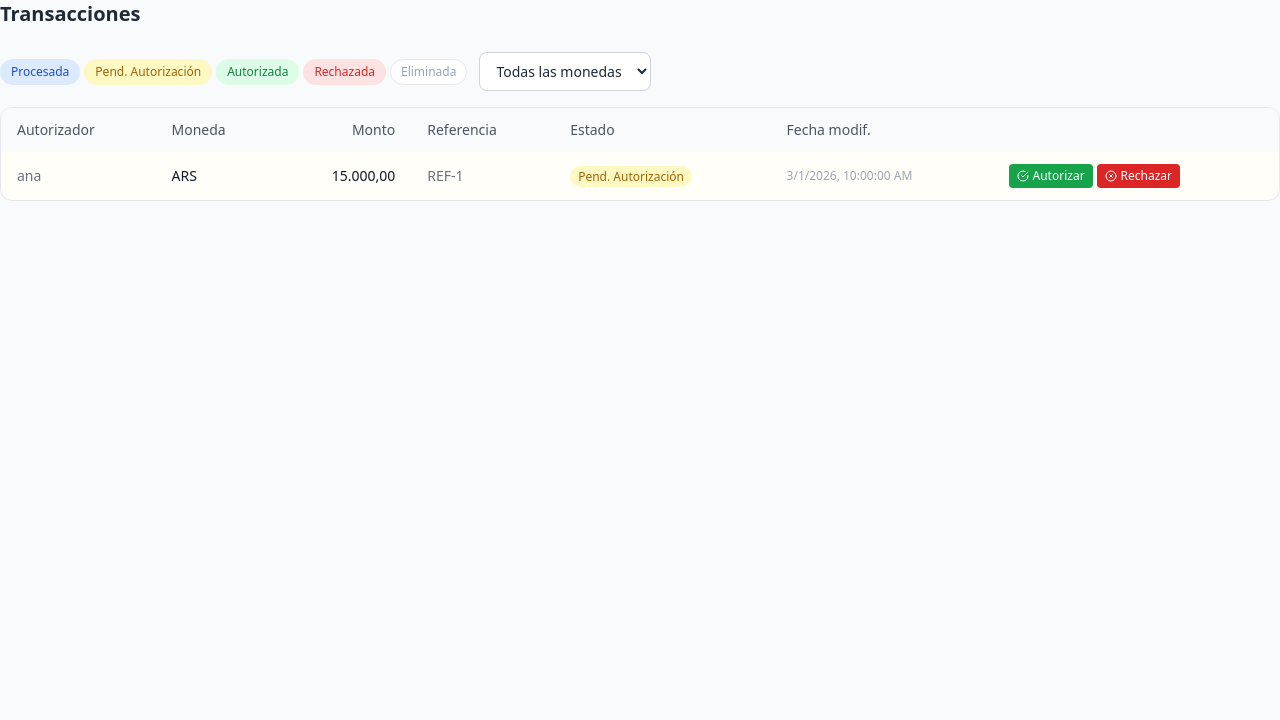
TransactionsPage — autorizar y rechazar › rechaza con el motivo escrito y cierra el modal
The image size is (1280, 720).
Click the button "Rechazar".
click(1138, 176)  # box x1=1097 y1=164 x2=1180 y2=188
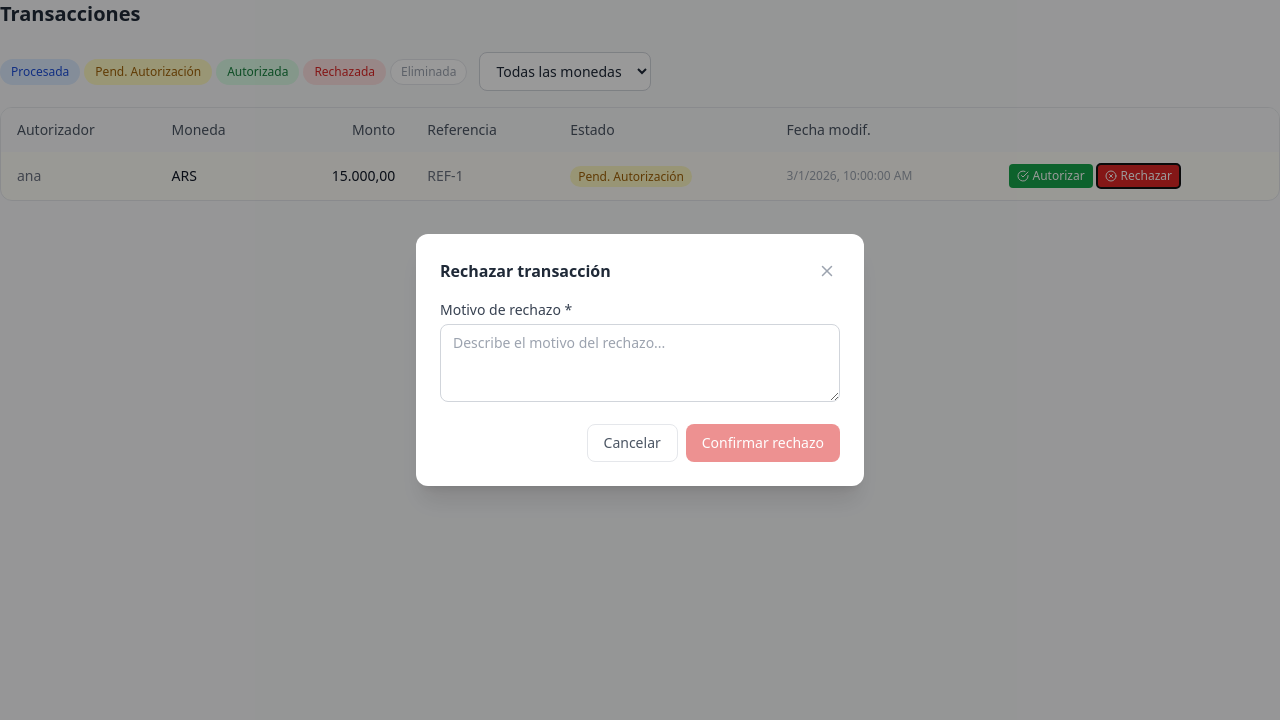
Type "duplicada" into the text box with placeholder "Describe el motivo del rechazo...".
click(640, 363); type("duplicada")  # box x1=440 y1=324 x2=840 y2=402
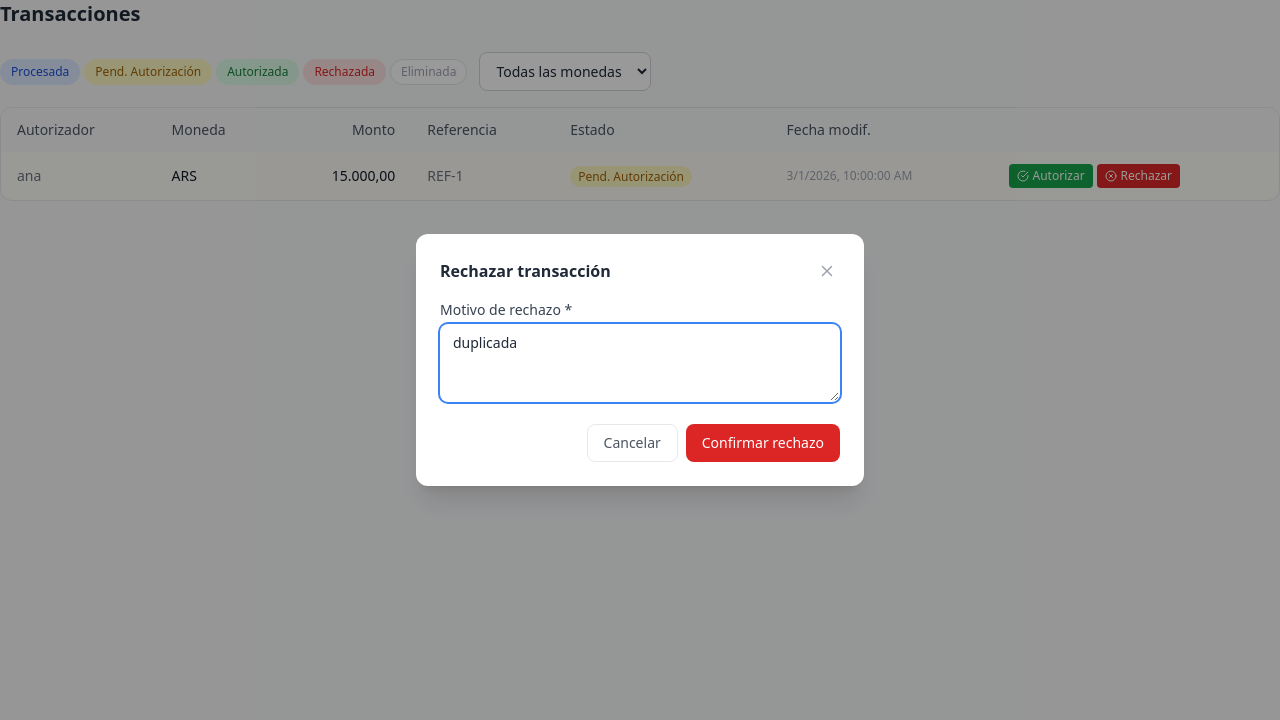
Click the button "Confirmar rechazo".
click(763, 443)  # box x1=686 y1=424 x2=840 y2=462
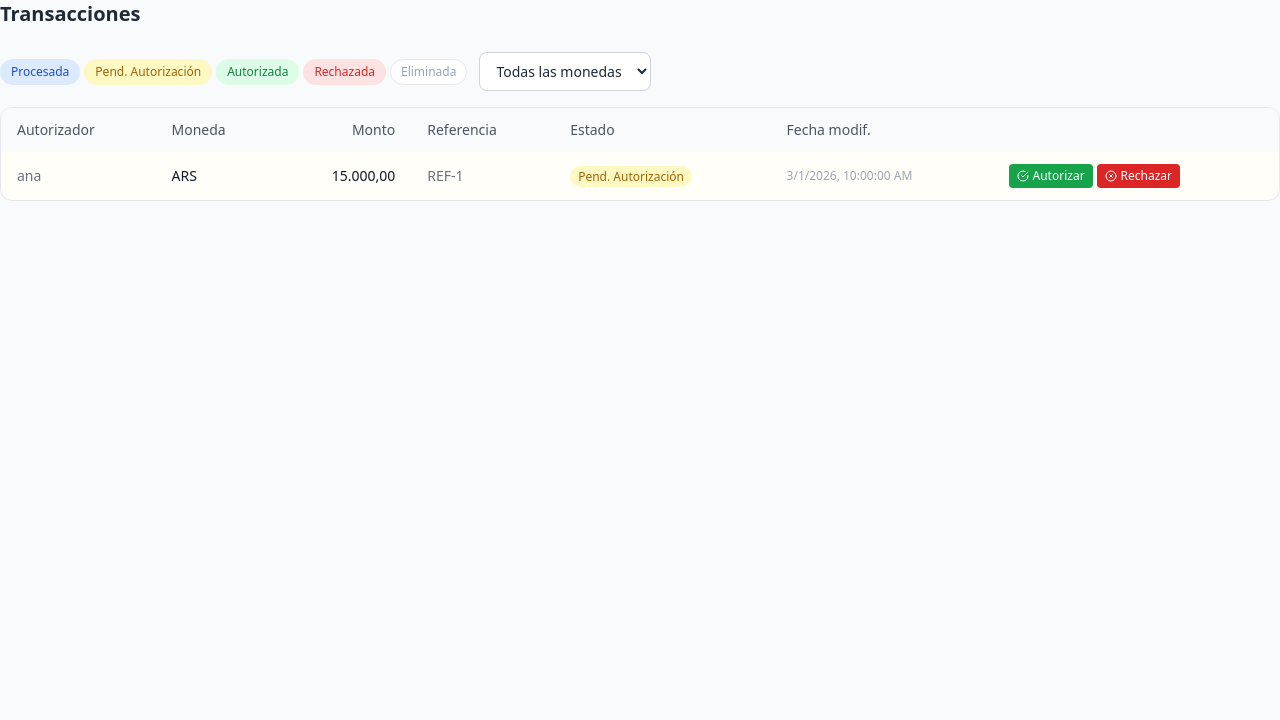
Result: the heading "Rechazar transacción" is gone
